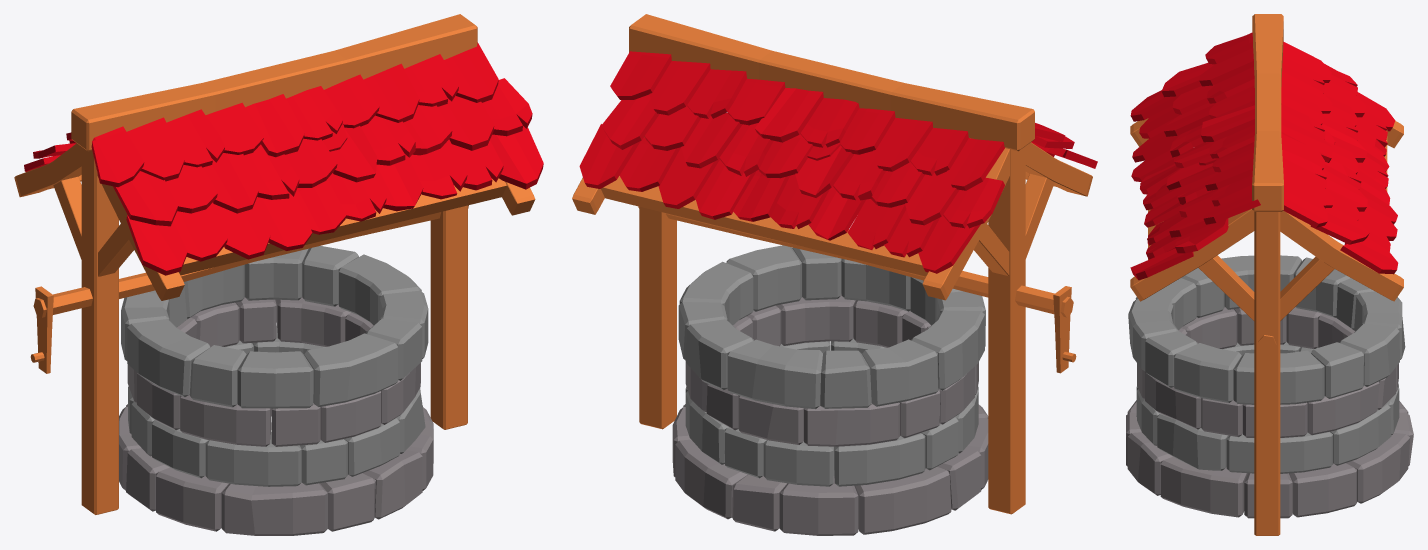
File: well.glb
The picture shows the model from 3 angles, left to right: view 1: azimuth 30°, elevation 25°; view 2: azimuth 150°, elevation 25°; view 3: azimuth 270°, elevation 25°; orthographic projection. The views are drawn at different scales.
Visible parts, largest first — view 1: Cube; view 2: Cube; view 3: Cube.
Boxes of the visible parts, x1,y1,x2,y2 form: Cube: [14, 14, 543, 535]; Cube: [572, 14, 1097, 535]; Cube: [1126, 14, 1413, 535].
Size of the model in its own units: 22.16 by 18.74 by 13.52.
